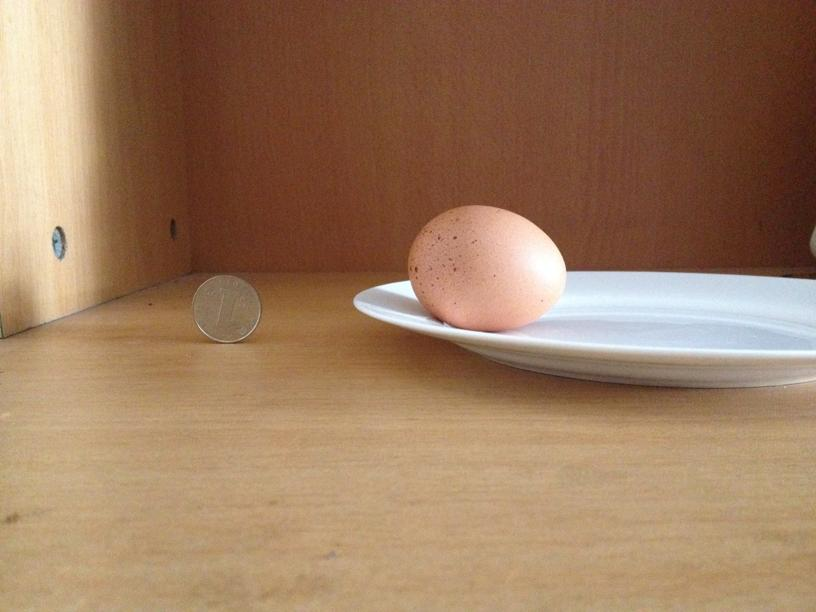coin: (189, 272, 263, 343)
egg: (405, 203, 566, 327)
